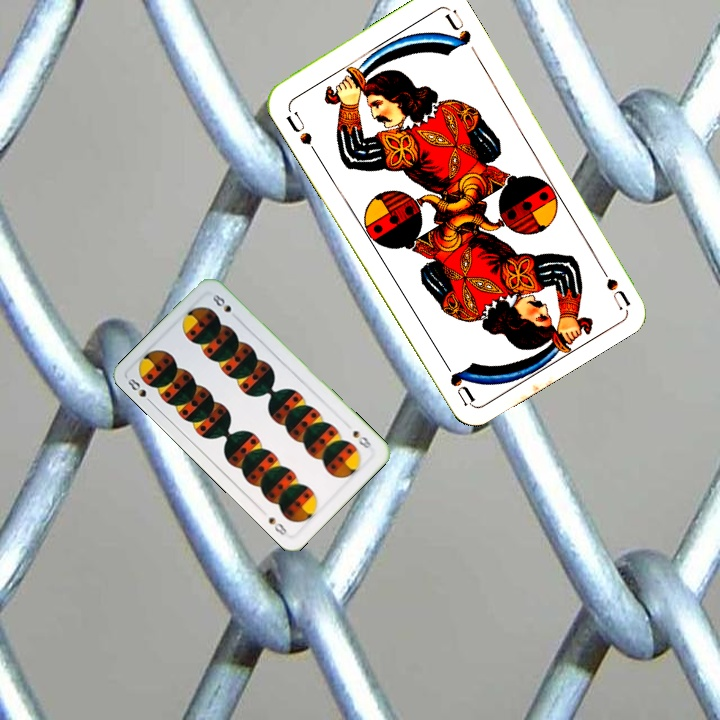S8: (124, 374, 156, 407), (349, 426, 374, 451)
SU: (591, 255, 632, 311), (282, 107, 320, 157)
